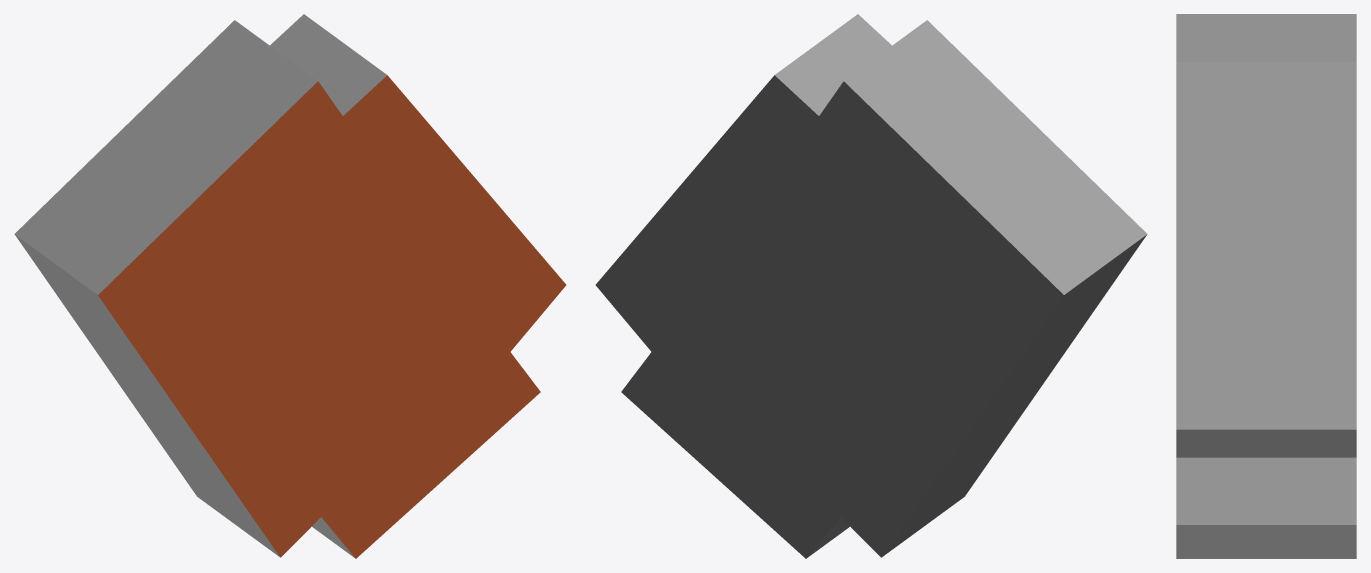
Rendered from construction_4599_assumed_A_Casa_h6m.obj.
3 renders of one model, left to right at view 1: azimuth 30°, elevation 25°; view 2: azimuth 150°, elevation 25°; view 3: azimuth 270°, elevation 25°, orthographic. The views are drawn at different scales.
Visible parts, largest first — view 1: construction_4599_assumed_A_Casa; view 2: construction_4599_assumed_A_Casa; view 3: construction_4599_assumed_A_Casa.
Part boxes in pixels (box(x1,y1,x2,y2)): construction_4599_assumed_A_Casa: box(14, 14, 566, 558); construction_4599_assumed_A_Casa: box(595, 14, 1147, 558); construction_4599_assumed_A_Casa: box(1176, 14, 1356, 558).
Bounding box in the file's own units: 19.44 × 19.3 × 6.
